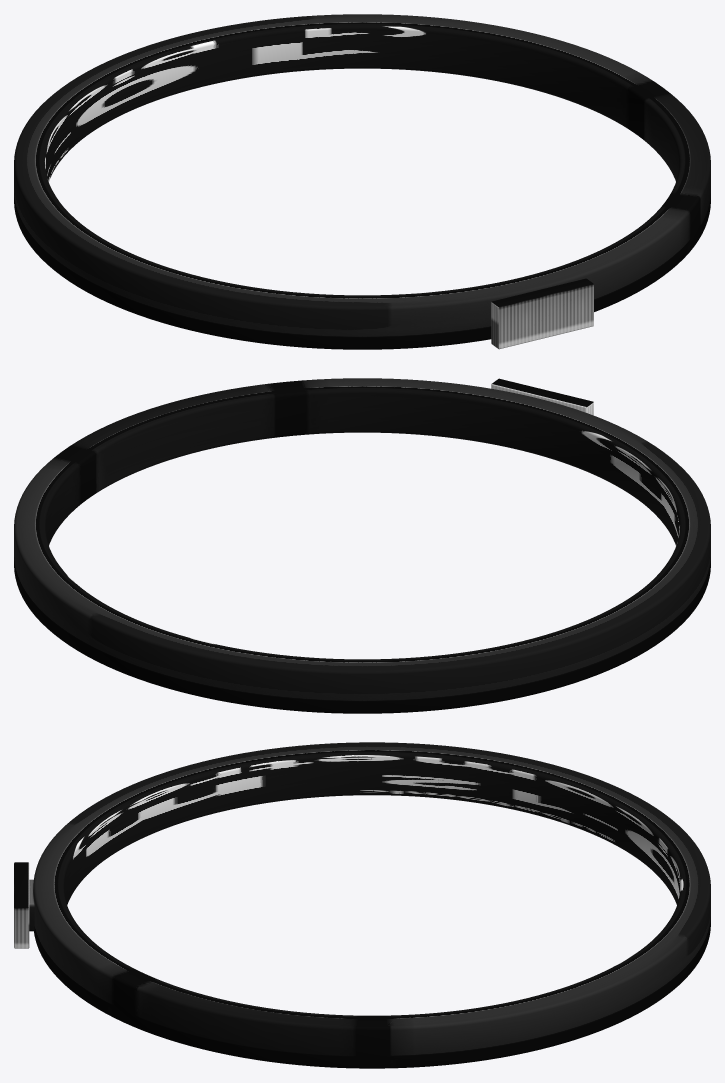
Rendered from 00-scalering-1pm.dae.
The picture shows the model from 3 angles, top to bottom: view 1: azimuth 30°, elevation 25°; view 2: azimuth 150°, elevation 25°; view 3: azimuth 270°, elevation 25°; orthographic projection. The views are drawn at different scales.
Parts seen in each view (by area): view 1: scalering.1, screen.1; view 2: scalering.1, screen.1; view 3: scalering.1, screen.1.
Boxes of the visible parts, box(x1,y1,x2,y2) form: scalering.1: box(14, 14, 710, 349); screen.1: box(491, 278, 593, 349); scalering.1: box(14, 378, 710, 713); screen.1: box(491, 378, 593, 415); scalering.1: box(33, 742, 710, 1068); screen.1: box(14, 862, 29, 948).
Size of the model in its own units: 11 by 0.75 by 11.31.
3 materials, 3 textured.
